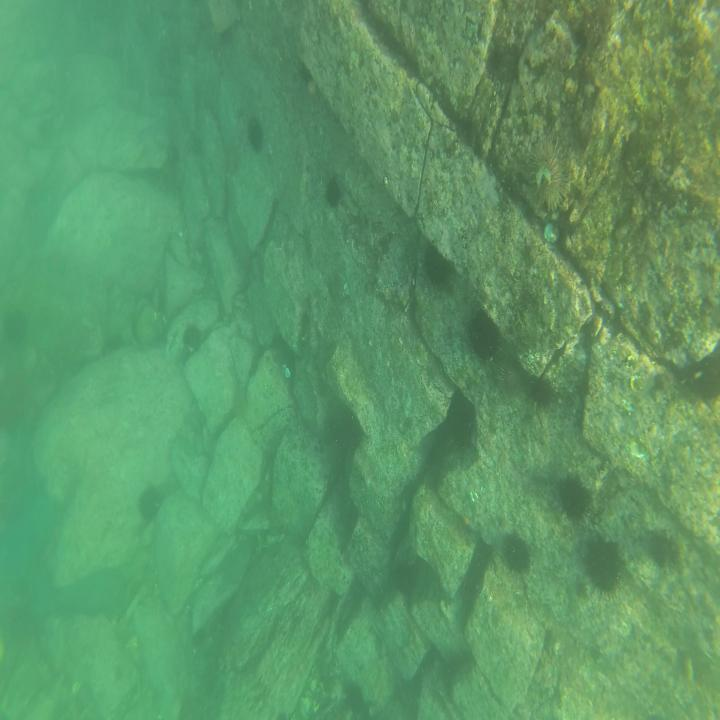echinus: (518, 124, 574, 219), (582, 537, 626, 603), (468, 297, 504, 366), (556, 466, 596, 524), (422, 232, 459, 293), (501, 527, 534, 575), (136, 487, 167, 525), (646, 532, 671, 573), (322, 170, 344, 216), (244, 114, 267, 158), (181, 321, 207, 353)
